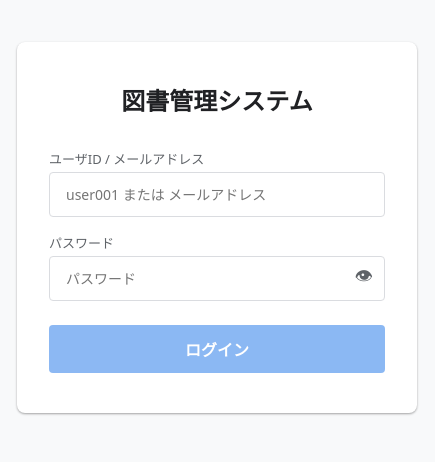
Test: LoginPage › shows error message when login fails
Step 1. Type "user001" into the field with placeholder "user001 または メールアドレス" → coordinates (217, 194), box left=49, top=172, right=385, bottom=216
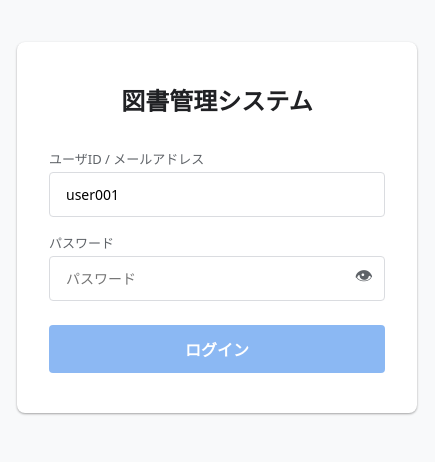
Step 2. Type "wrongpass" into the password field with placeholder "パスワード" → coordinates (217, 278), box left=49, top=256, right=385, bottom=300
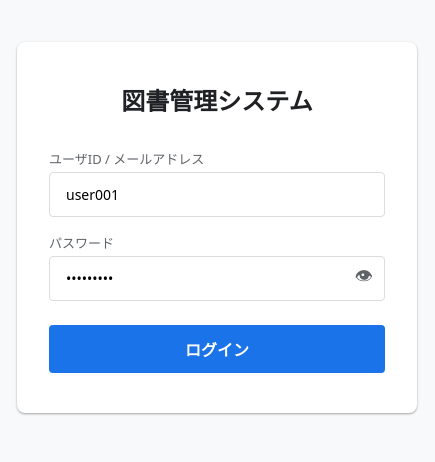
Step 3. Click the button "ログイン" → coordinates (217, 348), box left=49, top=324, right=385, bottom=372
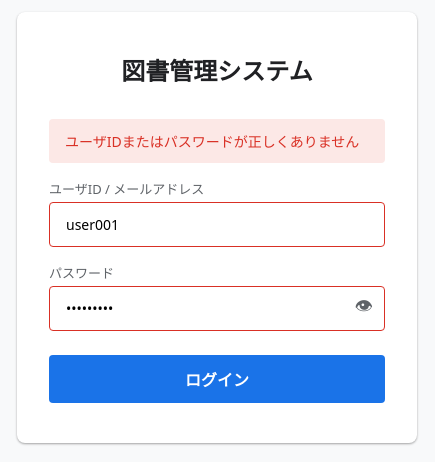
Result: the text "ユーザIDまたはパスワードが正しくありません" is shown at left=49, top=118, right=385, bottom=162
